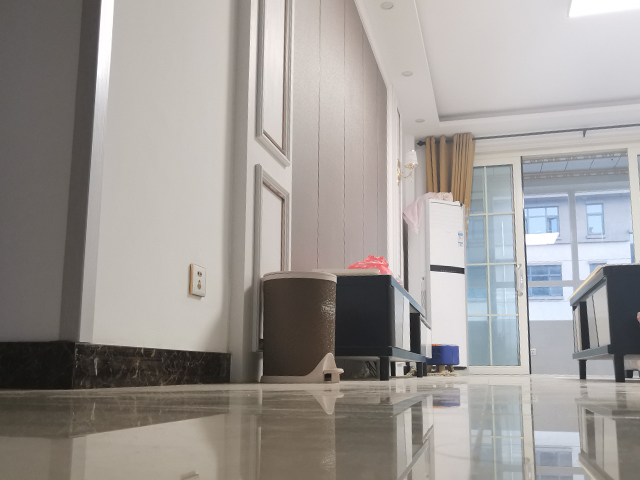cabinet: (334, 271, 436, 383)
stool: (424, 344, 461, 374)
table: (566, 261, 640, 384)
trashcan: (256, 268, 346, 387)
